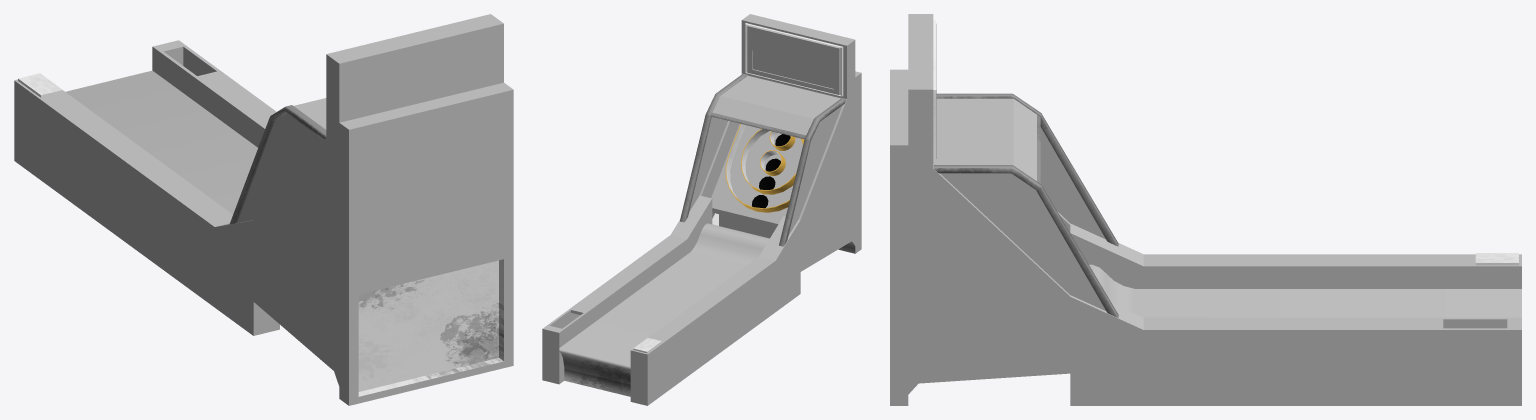
Rendered from Skee Ball.fbx.
The picture shows the model from 3 angles, left to right: view 1: azimuth 30°, elevation 25°; view 2: azimuth 150°, elevation 25°; view 3: azimuth 270°, elevation 25°; orthographic projection. The views are drawn at different scales.
Parts seen in each view (by area): view 1: Cube.006, Cube.005; view 2: Cube.006, Cube.005; view 3: Cube.006, Cube.005.
Boxes of the visible parts, <box> form: Cube.006: <box>14,14,513,405</box>; Cube.005: <box>65,47,279,335</box>; Cube.006: <box>542,14,861,405</box>; Cube.005: <box>559,75,840,396</box>; Cube.006: <box>890,14,1521,405</box>; Cube.005: <box>1060,216,1521,317</box>.
Bounding box in the file's own units: 98.21 × 191 × 346.
